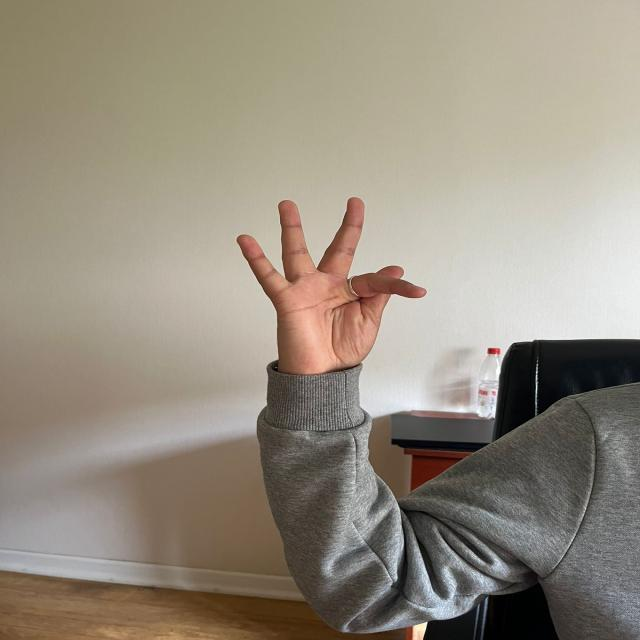F: (228, 188, 437, 377)
